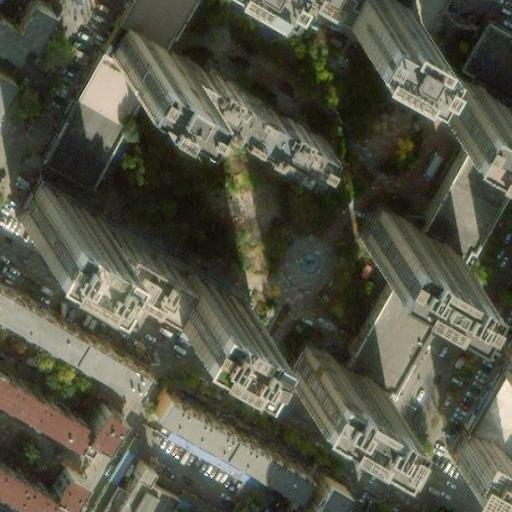building: (45, 0, 176, 167), (142, 384, 299, 491), (157, 52, 312, 160), (334, 256, 438, 390), (413, 122, 512, 250), (277, 340, 375, 419), (356, 200, 454, 279), (74, 220, 180, 293), (426, 61, 512, 143), (162, 257, 248, 330), (11, 179, 95, 251), (70, 334, 152, 400), (100, 23, 172, 84), (460, 370, 512, 440), (439, 419, 496, 475), (332, 0, 414, 38), (81, 453, 133, 512), (104, 461, 161, 512), (293, 471, 340, 512), (75, 405, 112, 448), (486, 323, 512, 384), (38, 466, 75, 507), (0, 67, 22, 134), (488, 469, 512, 507), (146, 496, 168, 512)
